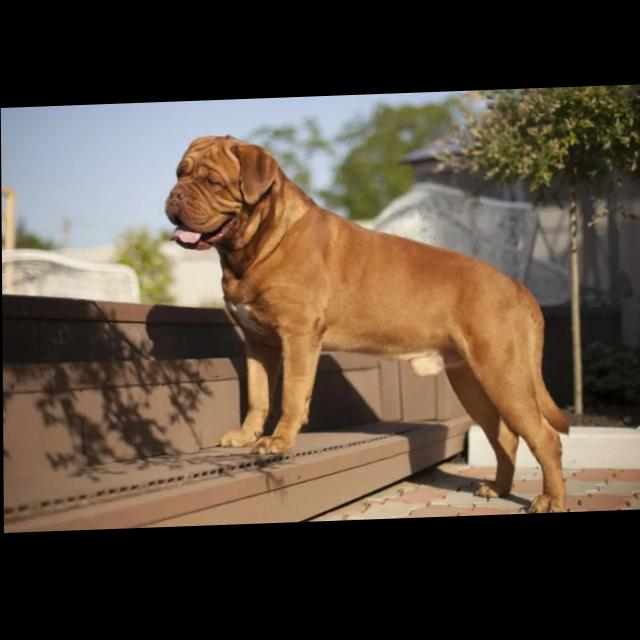dogue_de_bordeaux: (166, 125, 572, 529)
